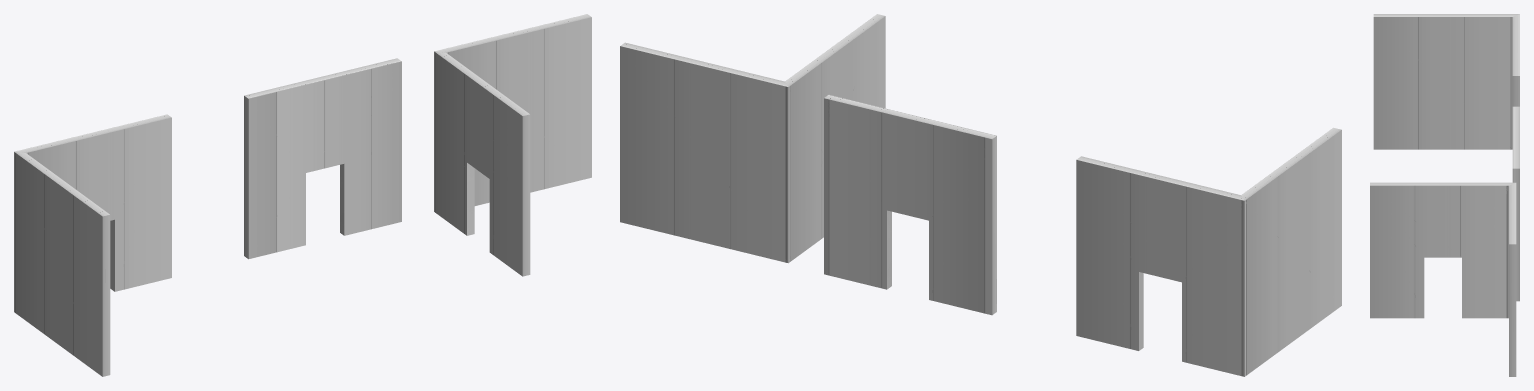
Rendered from EdgeWalls.fbx.
The picture shows the model from 3 angles, left to right: view 1: azimuth 30°, elevation 25°; view 2: azimuth 150°, elevation 25°; view 3: azimuth 270°, elevation 25°; orthographic projection. The views are drawn at different scales.
Parts seen in each view (by area): view 1: Cube.002, Cube.016, Cube.001; view 2: Cube.002, Cube.016, Cube.001; view 3: Cube.002, Cube.016, Cube.001.
Part boxes in pixels (x1,y1,x2,y2): Cube.002: (14,114,171,376); Cube.016: (434,14,591,276); Cube.001: (244,58,401,259); Cube.002: (1076,127,1341,376); Cube.016: (620,14,885,263); Cube.001: (824,94,996,315); Cube.002: (1373,14,1519,149); Cube.016: (1370,182,1516,376); Cube.001: (1512,106,1519,301).
Size of the model in its own units: 1490 by 400 by 410.
1 material, 1 textured.
